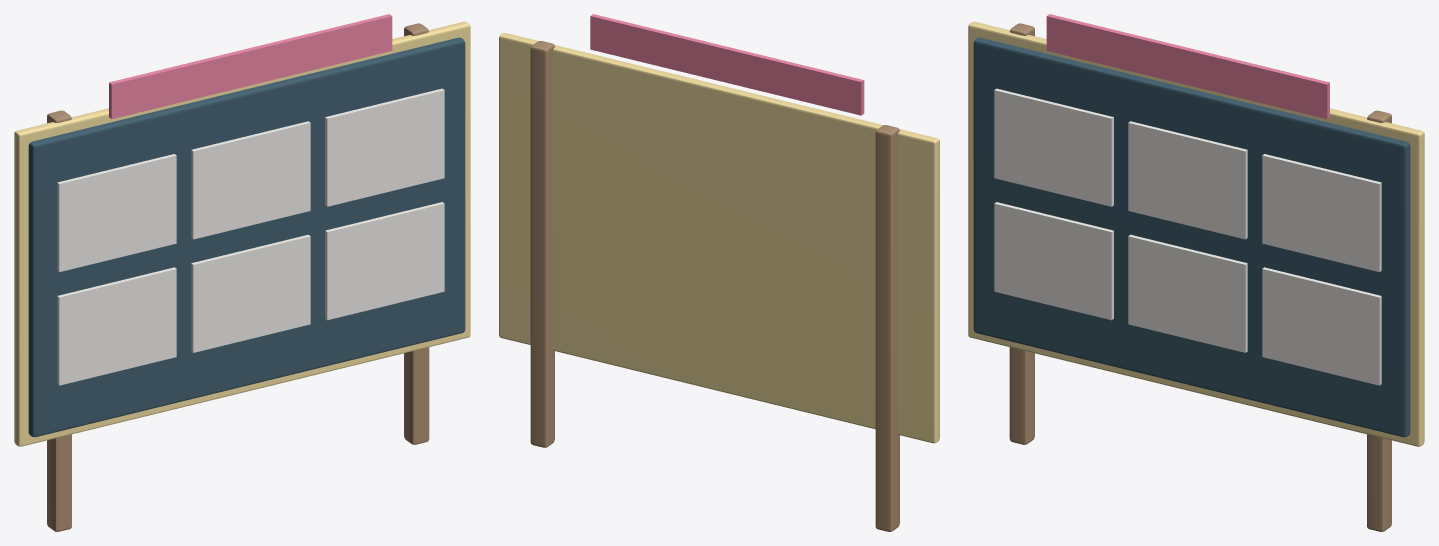
File: PhotoWall.fbx
The picture shows the model from 3 angles, left to right: view 1: azimuth 30°, elevation 25°; view 2: azimuth 150°, elevation 25°; view 3: azimuth 330°, elevation 25°; orthographic projection. The views are drawn at different scales.
Visible parts, largest first — view 1: PhotoWall; view 2: PhotoWall; view 3: PhotoWall.
Boxes of the visible parts, x1,y1,x2,y2 form: PhotoWall: [14, 14, 470, 531]; PhotoWall: [499, 14, 939, 531]; PhotoWall: [968, 14, 1424, 531].
Size of the model in its own units: 3.55 by 3.33 by 0.26.
